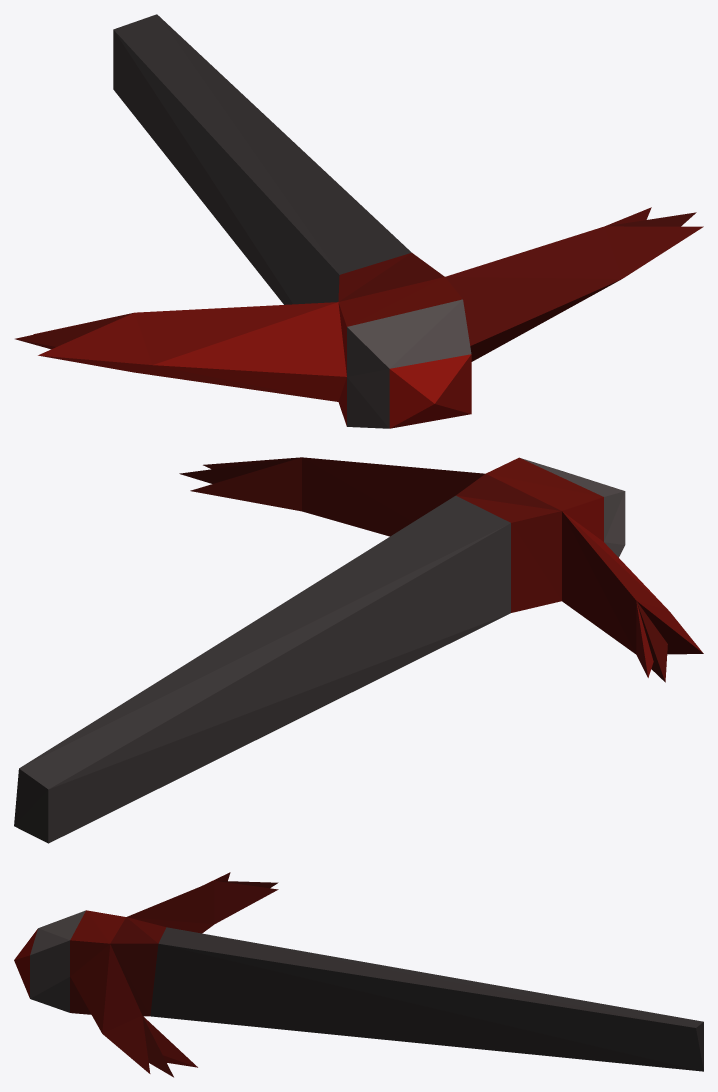
Rendered from dragon-pickaxe.obj.
3 renders of one model, top to bottom at view 1: azimuth 30°, elevation 25°; view 2: azimuth 150°, elevation 25°; view 3: azimuth 270°, elevation 25°, orthographic. The views are drawn at different scales.
Visible parts, largest first — view 1: ware; view 2: ware; view 3: ware.
Part boxes in pixels (<box>): ware: <box>15,14,703,428</box>; ware: <box>14,457,703,843</box>; ware: <box>14,872,703,1077</box>.
Bounding box in the file's own units: 65 × 13 × 86.
